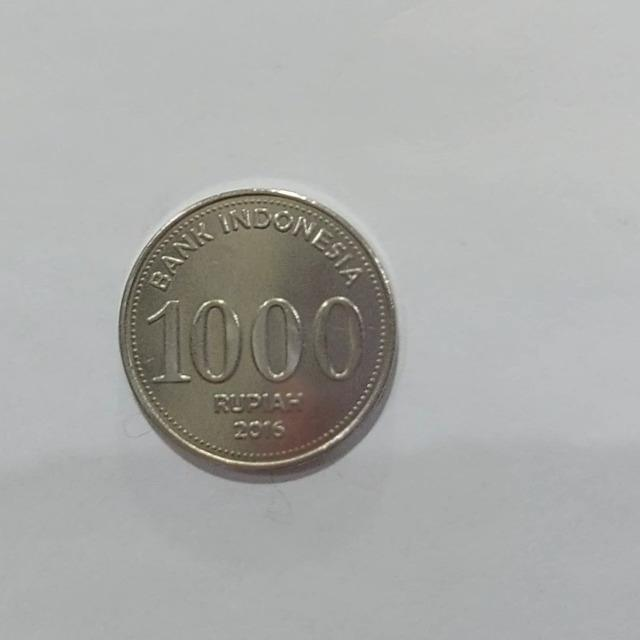Rp100: (116, 185, 399, 482)
